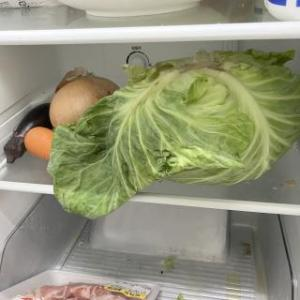cabbage: (46, 46, 300, 222)
carrot: (22, 126, 54, 162)
eggplant: (2, 102, 56, 166)
onion: (49, 66, 123, 130)
